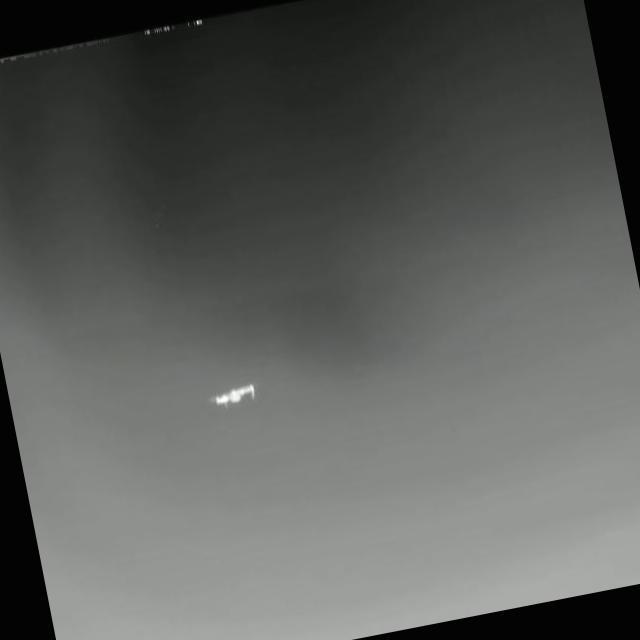DRONE: (193, 374, 267, 419)
